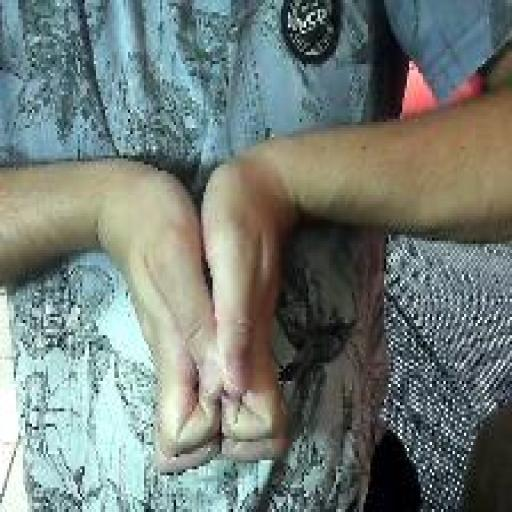I -boar-: (119, 150, 295, 482)
